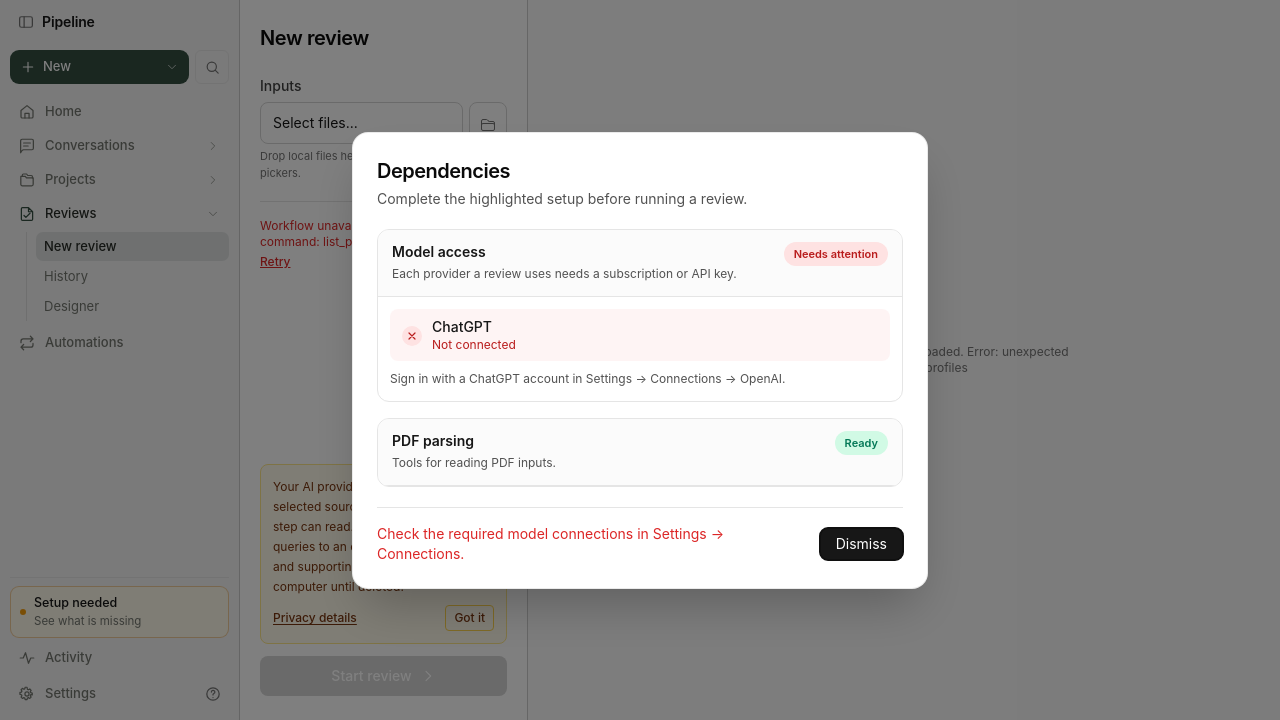
Test: App launch › rechecks dependencies when reopening a stale setup warning
Click the button "Dismiss". click: [861, 544]
box: [820,528,903,560]
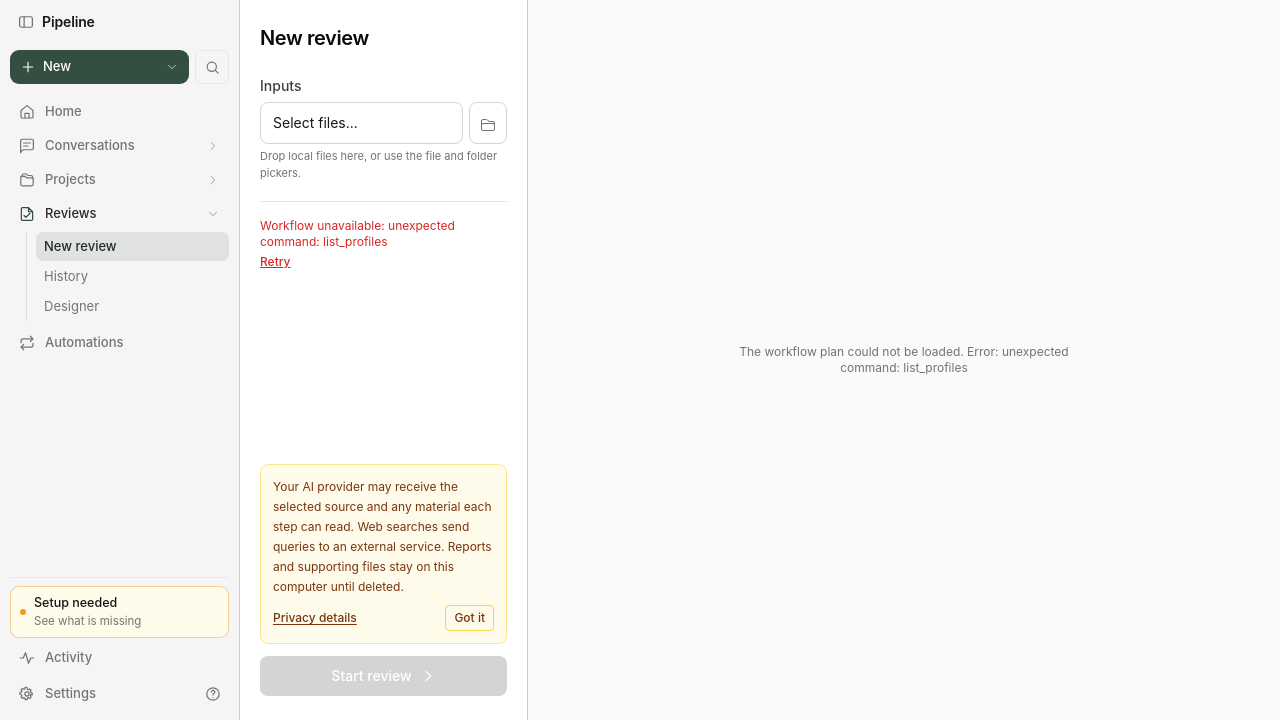
Click the button "Setup needed See what is missing". click: [120, 612]
box: [10,586,229,638]
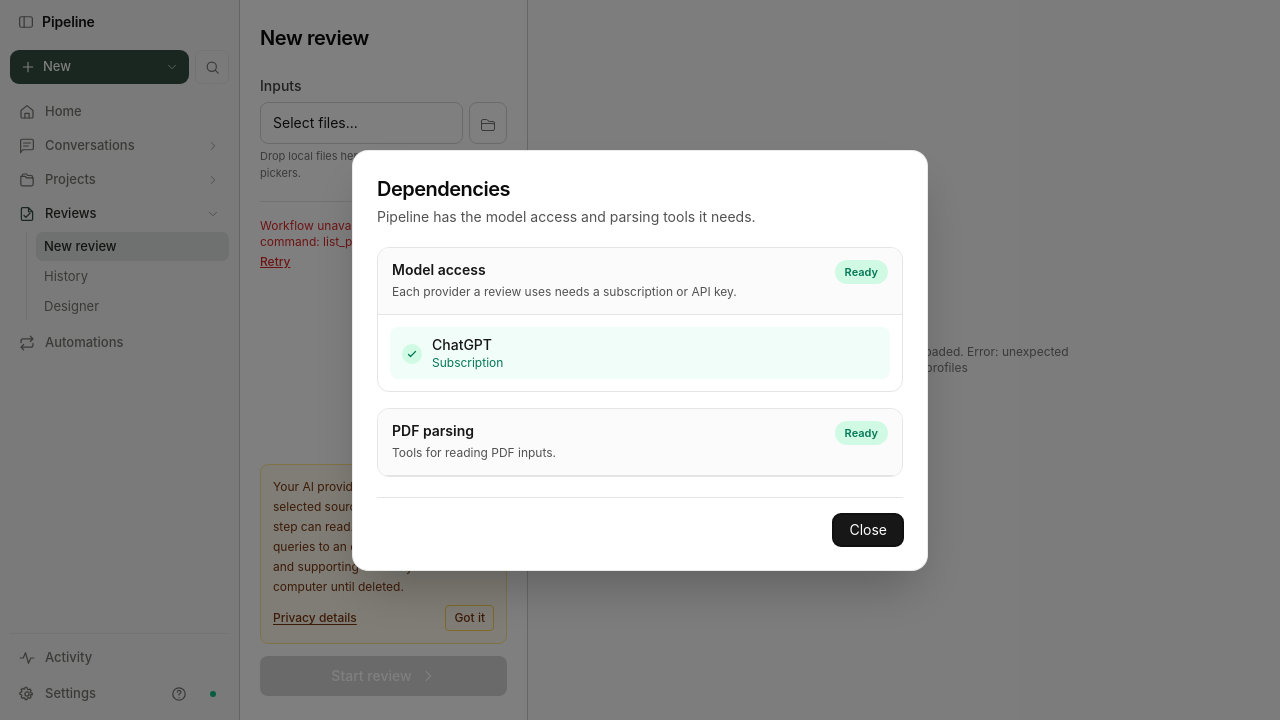
Check: the button "Close" is shown, box [833,514,903,546]
Check: the text "Subscription" is shown, box [432,354,503,370]
Check: the button "Setup needed" is gone
